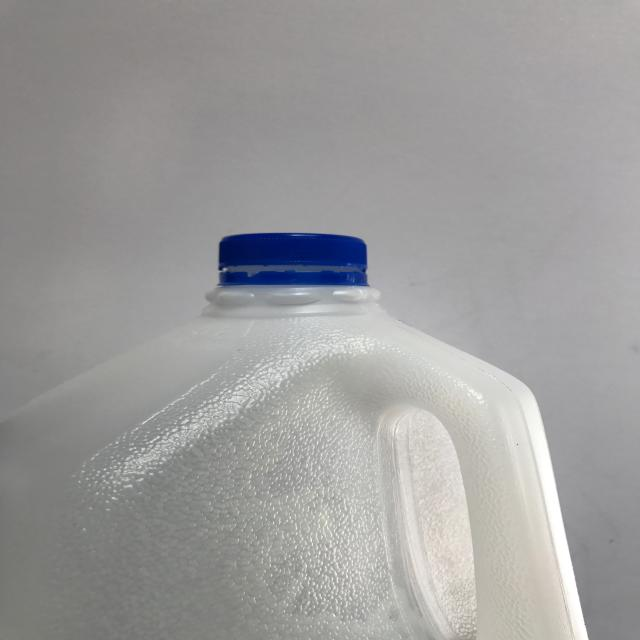plastic: (1, 232, 590, 638)
